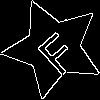F: (28, 23, 83, 78)
